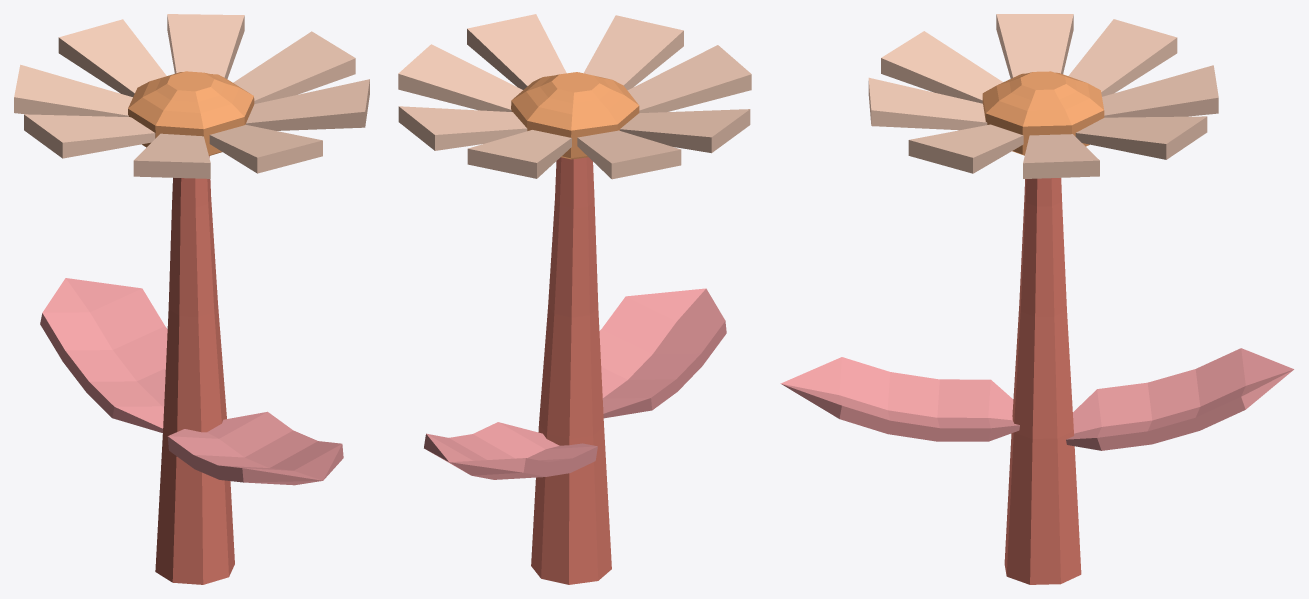
File: flowerbleach-1.fbx
The picture shows the model from 3 angles, left to right: view 1: azimuth 30°, elevation 25°; view 2: azimuth 150°, elevation 25°; view 3: azimuth 270°, elevation 25°; orthographic projection.
Parts seen in each view (by area): view 1: flowerbleach; view 2: flowerbleach; view 3: flowerbleach.
Boxes of the visible parts, box(x1,y1,x2,y2) form: flowerbleach: box(14, 14, 369, 584); flowerbleach: box(398, 14, 751, 584); flowerbleach: box(780, 14, 1293, 584).
Bounding box in the file's own units: 979 × 1491 × 1425.
